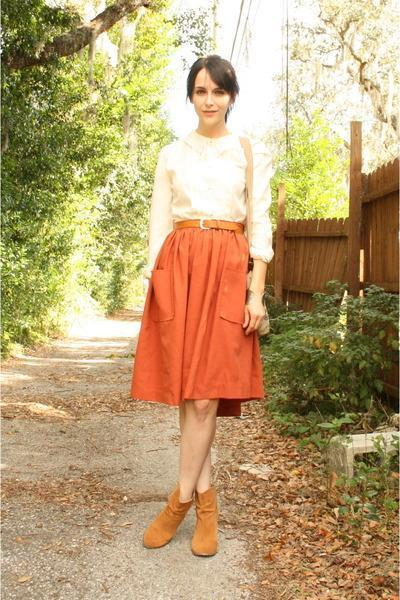shirt: (134, 132, 276, 275)
shoe: (143, 482, 222, 557)
skirt: (130, 218, 264, 418)
